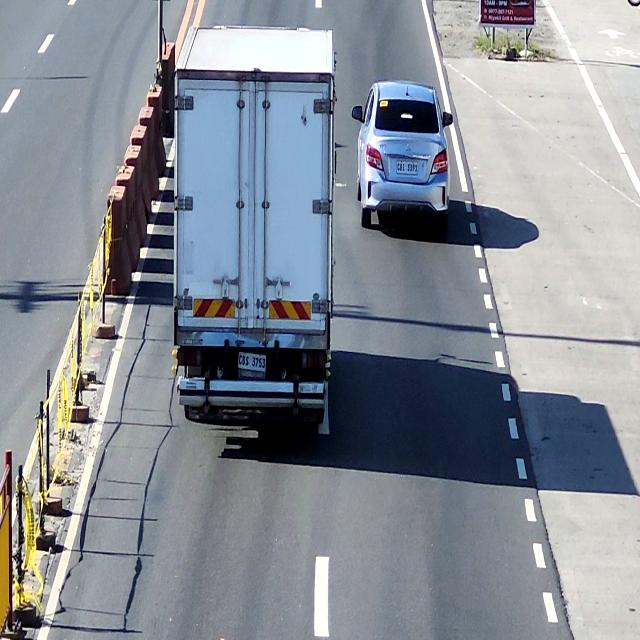Car: (358, 81, 452, 231)
License-Plate: (236, 351, 270, 376), (395, 158, 420, 177)
Truck: (175, 26, 334, 435)
